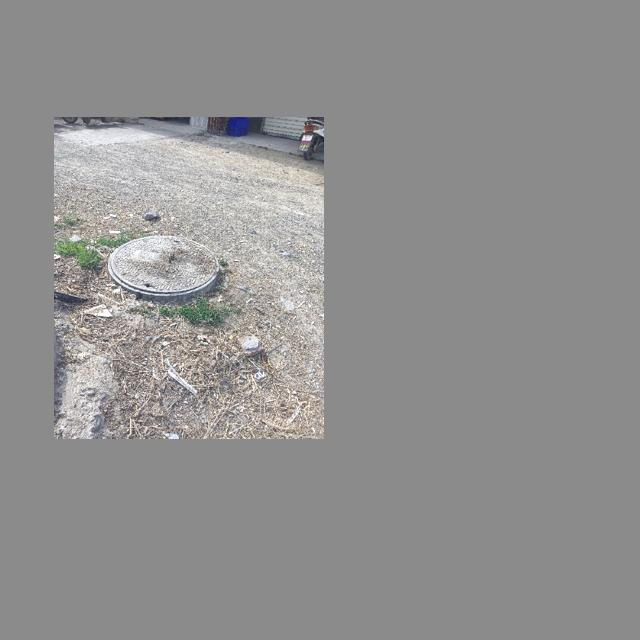good: (107, 235, 219, 296)
